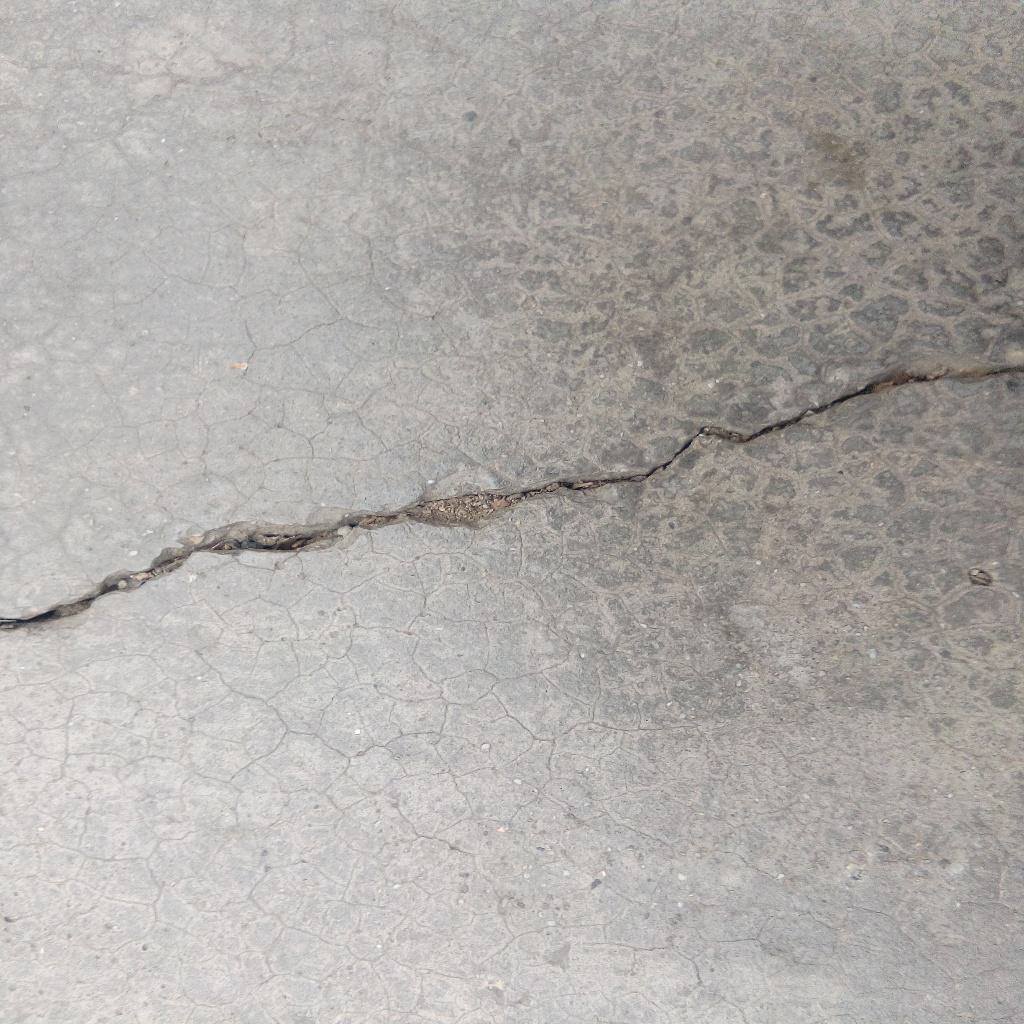Crack: (1, 363, 1024, 633)
